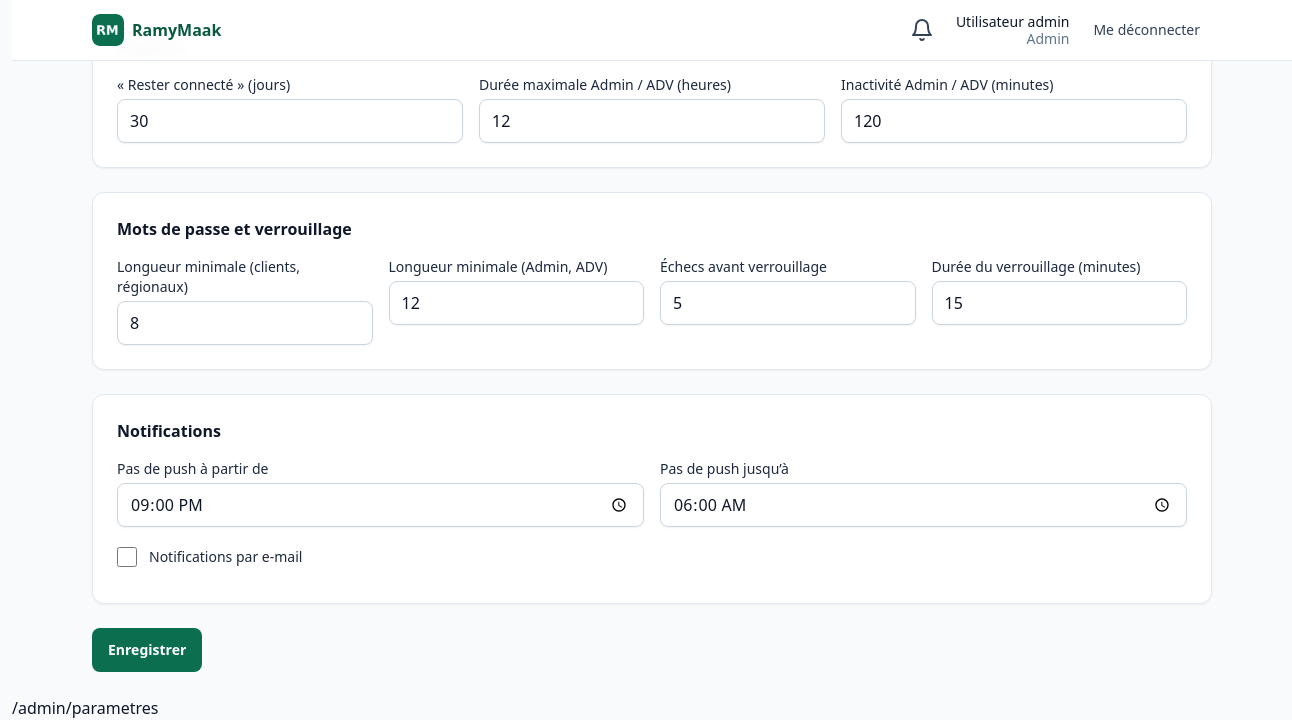
Test: admin — settings › shows server errors next to the field
This screenshot has width=1292, height=720.
(page scrolled)
Click the button "Enregistrer": (147, 650) left=92, top=628, right=202, bottom=672
(page scrolled)
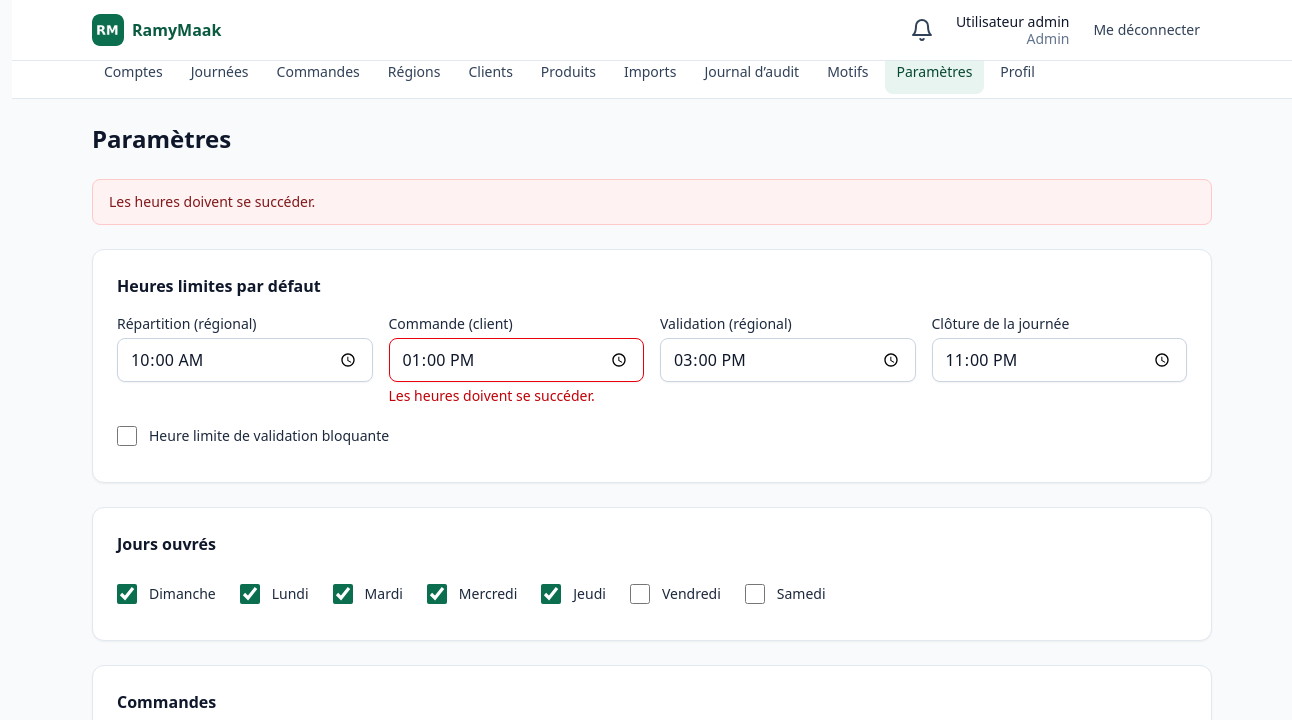
Expected: the text "Les heures doivent se succéder." is shown 2 times, left=92, top=179, right=1212, bottom=225; left=388, top=386, right=595, bottom=405
